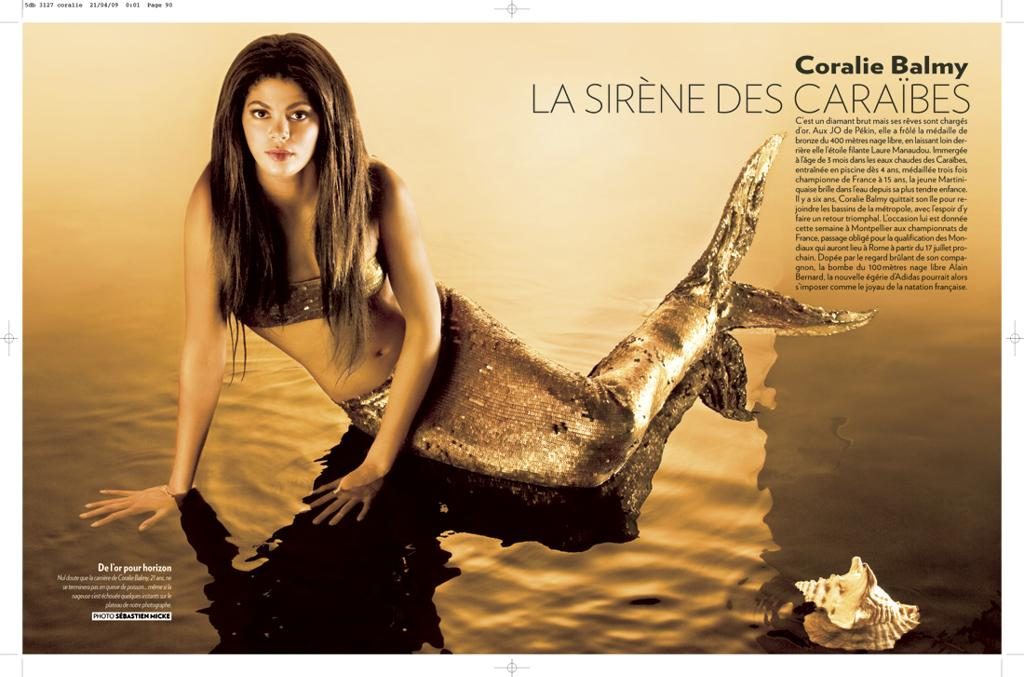face: (246, 82, 320, 170)
